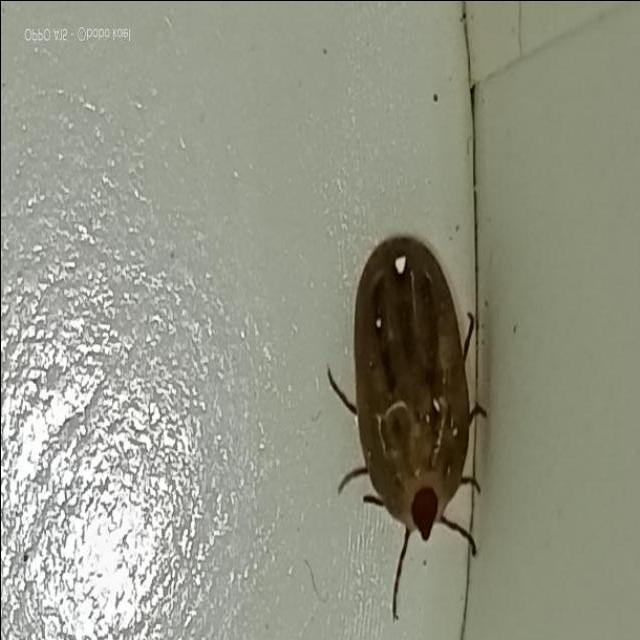Rhipicephalus Sanguineus-F-Fed: (325, 234, 486, 622)
